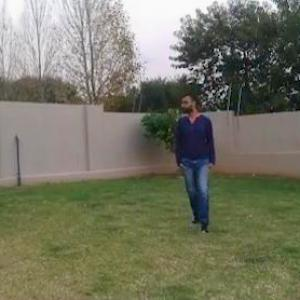follow: (180, 91, 216, 232)
